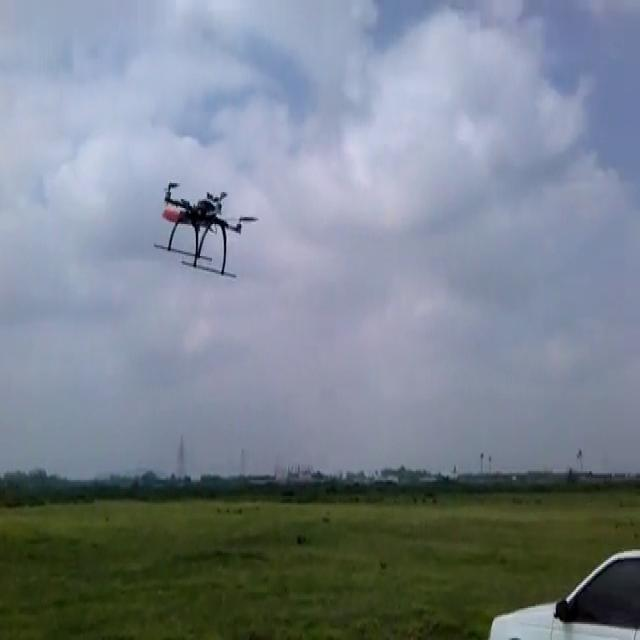drone: (150, 176, 260, 279)
